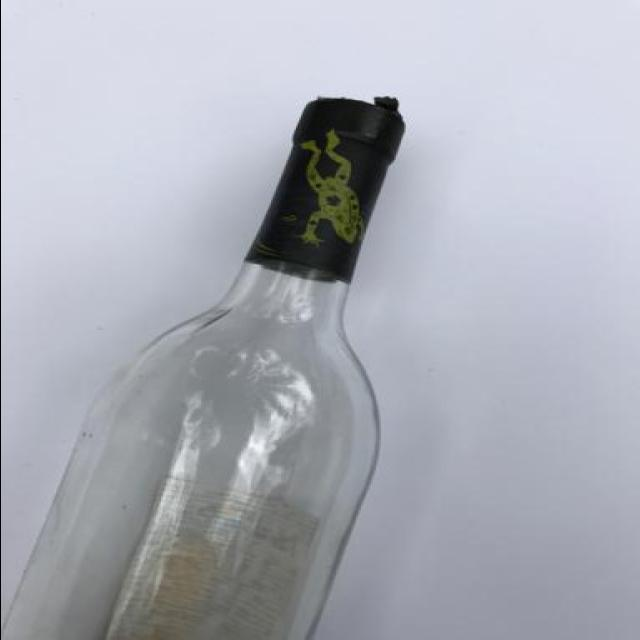litter: (3, 92, 410, 638)
